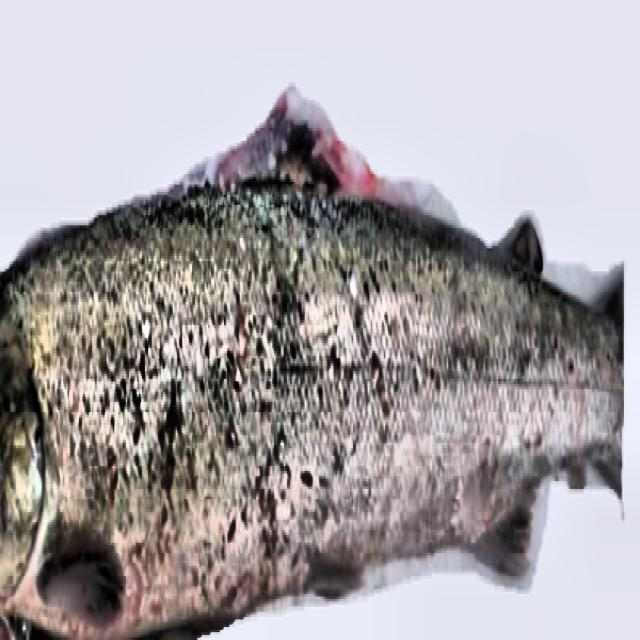mild_red: (10, 184, 623, 630)
